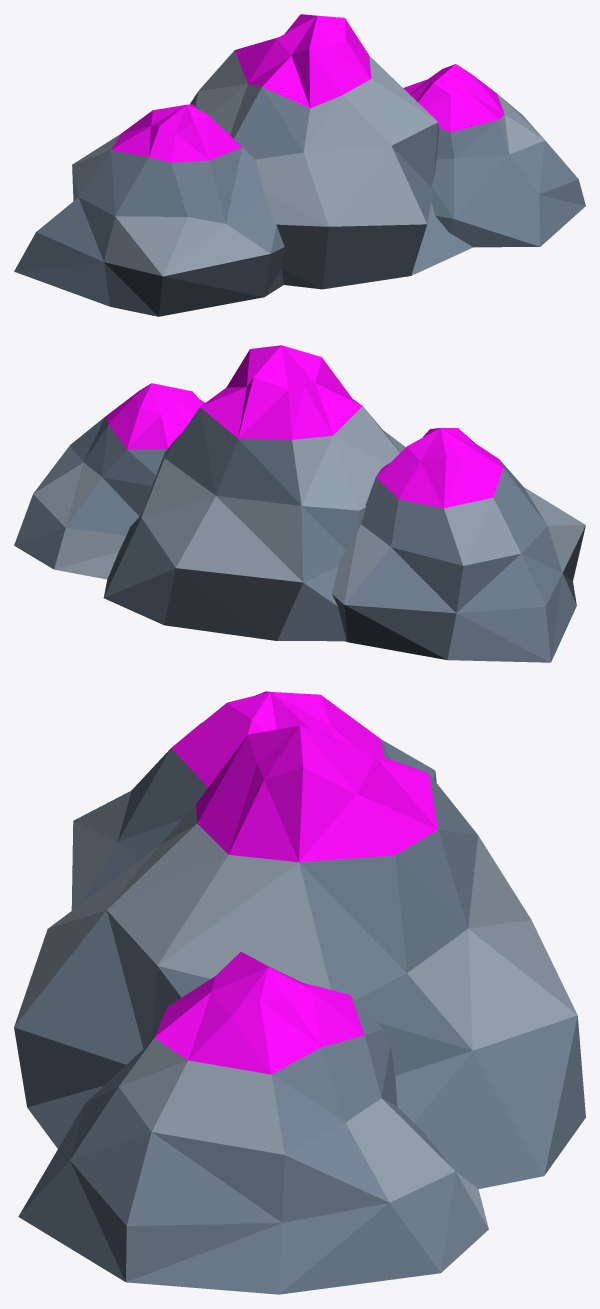
Rendered from SM_Mountain_C.fbx.
The picture shows the model from 3 angles, top to bottom: view 1: azimuth 30°, elevation 25°; view 2: azimuth 150°, elevation 25°; view 3: azimuth 270°, elevation 25°; orthographic projection. The views are drawn at different scales.
Visible parts, largest first — view 1: SM_Mountain_C; view 2: SM_Mountain_C; view 3: SM_Mountain_C.
Part boxes in pixels (x1,y1,x2,y2): SM_Mountain_C: (14, 14, 585, 316); SM_Mountain_C: (14, 345, 585, 662); SM_Mountain_C: (14, 691, 585, 1294).
Bounding box in the file's own units: 43.69 × 17 × 23.97.
